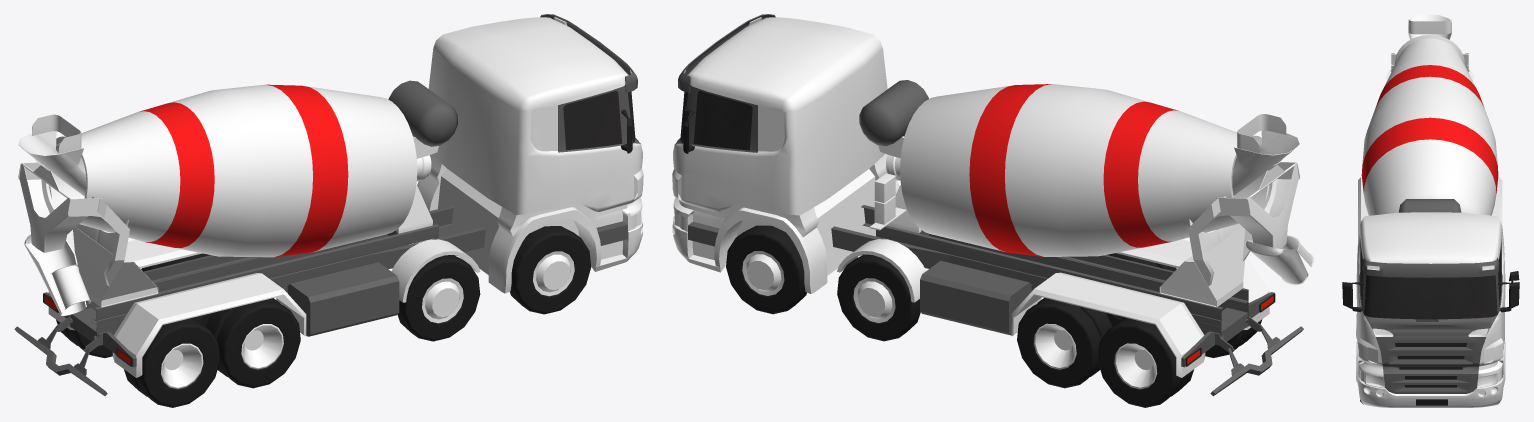
The model's file is sm_benz_arocs3240_lod_2.fbx.
The picture shows the model from 3 angles, left to right: view 1: azimuth 30°, elevation 25°; view 2: azimuth 150°, elevation 25°; view 3: azimuth 270°, elevation 25°; orthographic projection. The views are drawn at different scales.
Parts seen in each view (by area): view 1: lod_2; view 2: lod_2; view 3: lod_2.
Part boxes in pixels (x1,y1,x2,y2): lod_2: (14, 14, 643, 407); lod_2: (672, 14, 1313, 407); lod_2: (1342, 14, 1519, 407).
Bounding box in the file's own units: 8.54 × 3.7 × 2.82.
